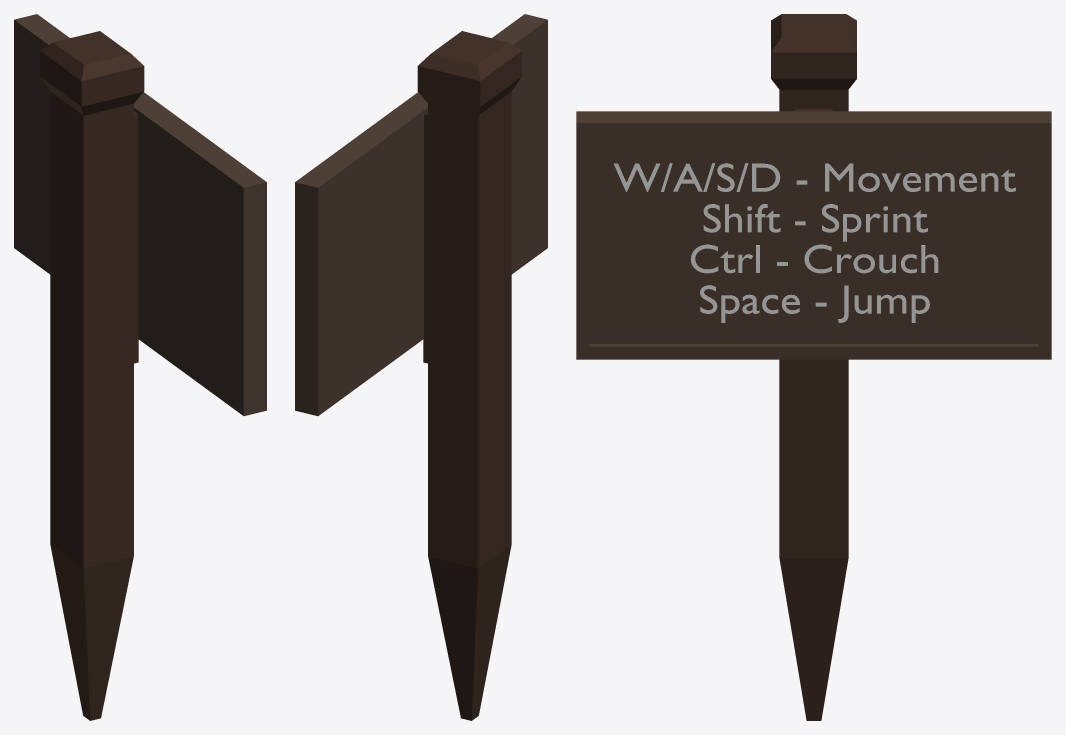
File: controls sign.fbx
The picture shows the model from 3 angles, left to right: view 1: azimuth 30°, elevation 25°; view 2: azimuth 150°, elevation 25°; view 3: azimuth 270°, elevation 25°; orthographic projection. The views are drawn at different scales.
Visible parts, largest first — view 1: Sign post.007, Sign.007; view 2: Sign post.007, Sign.007; view 3: Sign.007, Sign post.007, Text.010.
Boxes of the visible parts, x1,y1,x2,y2 form: Sign post.007: (40, 31, 144, 720); Sign.007: (14, 14, 266, 415); Sign post.007: (417, 31, 521, 720); Sign.007: (295, 14, 547, 415); Sign.007: (576, 111, 1051, 359); Sign post.007: (771, 14, 856, 720); Text.010: (614, 163, 1015, 322).
Size of the model in its own units: 89.17 by 624 by 389.
